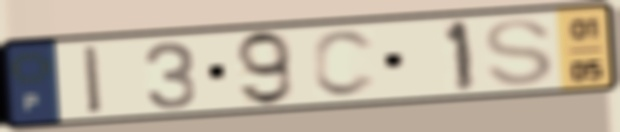1: (438, 18, 480, 95)
3: (141, 39, 198, 111)
9: (233, 29, 296, 109)
C: (309, 27, 381, 100)
I: (79, 43, 108, 118)
S: (480, 16, 558, 89)
